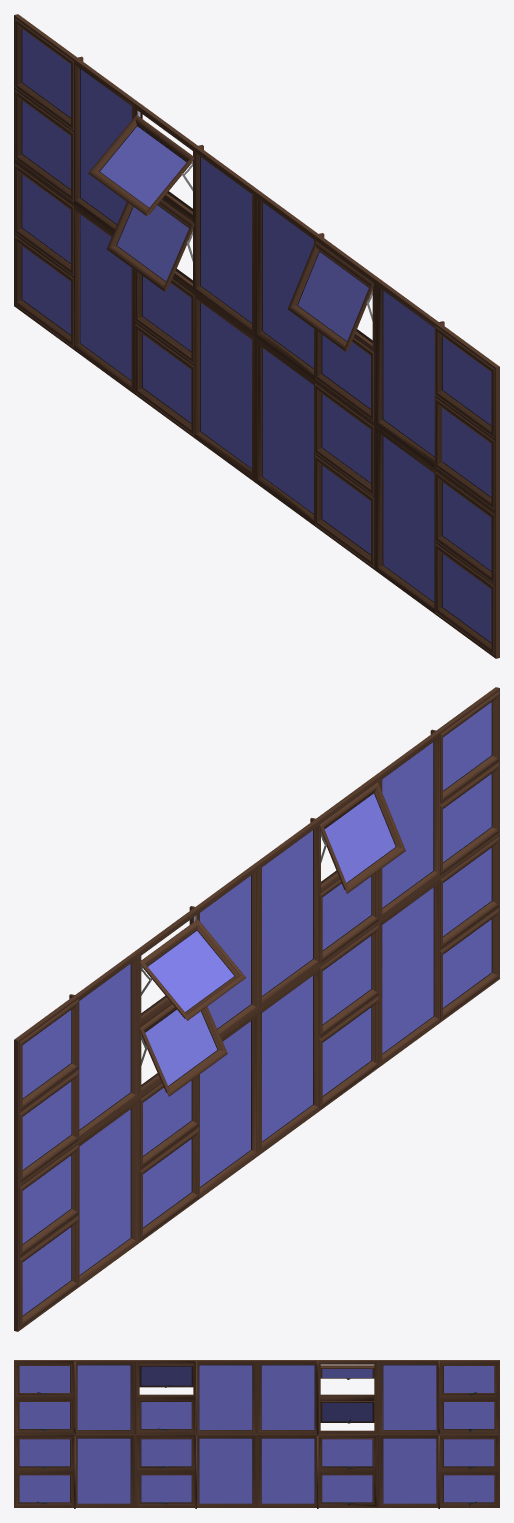
The model's file is WindowFront.glb.
3 renders of one model, top to bottom at view 1: azimuth 30°, elevation 25°; view 2: azimuth 150°, elevation 25°; view 3: azimuth 270°, elevation 25°, orthographic. The views are drawn at different scales.
Visible parts, largest first — view 1: Frame.001; view 2: Frame.001; view 3: Frame.001.
Boxes of the visible parts, x1,y1,x2,y2 form: Frame.001: [14, 14, 499, 658]; Frame.001: [14, 687, 499, 1331]; Frame.001: [14, 1360, 499, 1508].
Bounding box in the file's own units: 0.4043 × 2 × 6.
3 materials, 3 textured.
